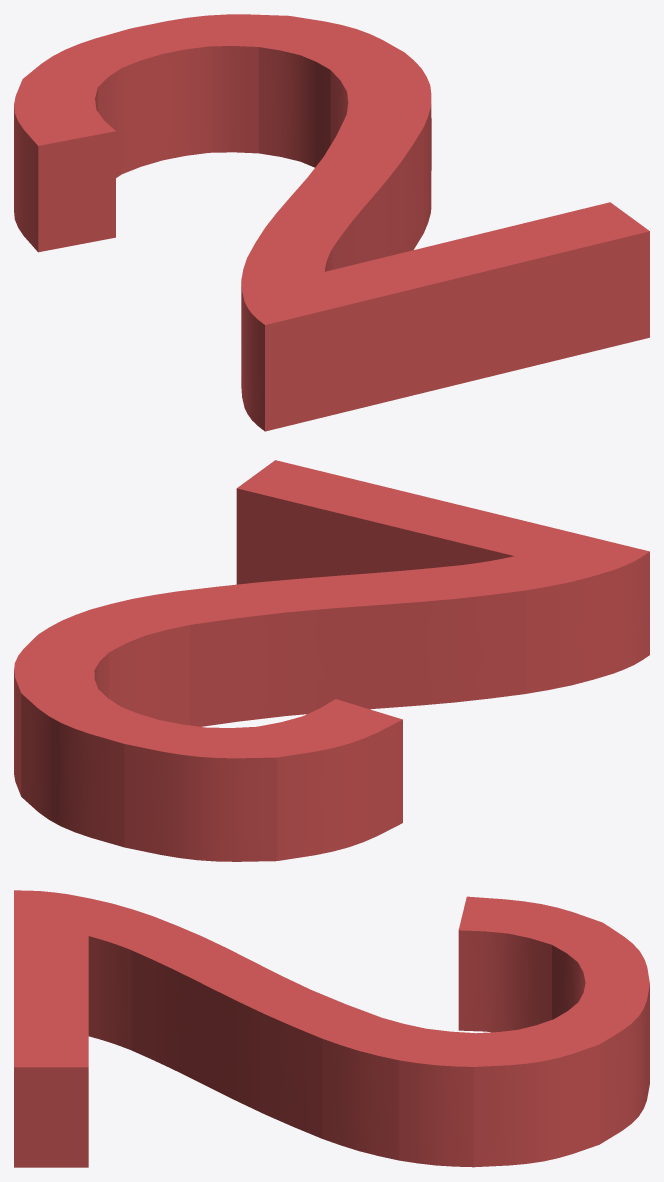
The picture shows the model from 3 angles, top to bottom: view 1: azimuth 30°, elevation 25°; view 2: azimuth 150°, elevation 25°; view 3: azimuth 270°, elevation 25°; orthographic projection. The views are drawn at different scales.
Visible parts, largest first — view 1: Body10; view 2: Body10; view 3: Body10.
Boxes of the visible parts, bbox=[...] form: Body10: bbox=[14, 14, 649, 431]; Body10: bbox=[14, 460, 649, 861]; Body10: bbox=[14, 890, 649, 1167].
Size of the model in its own units: 18.93 by 5 by 28.75.
